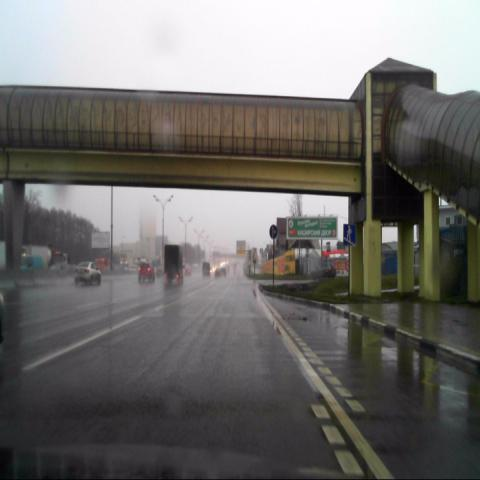6_7: (344, 224, 356, 245)
